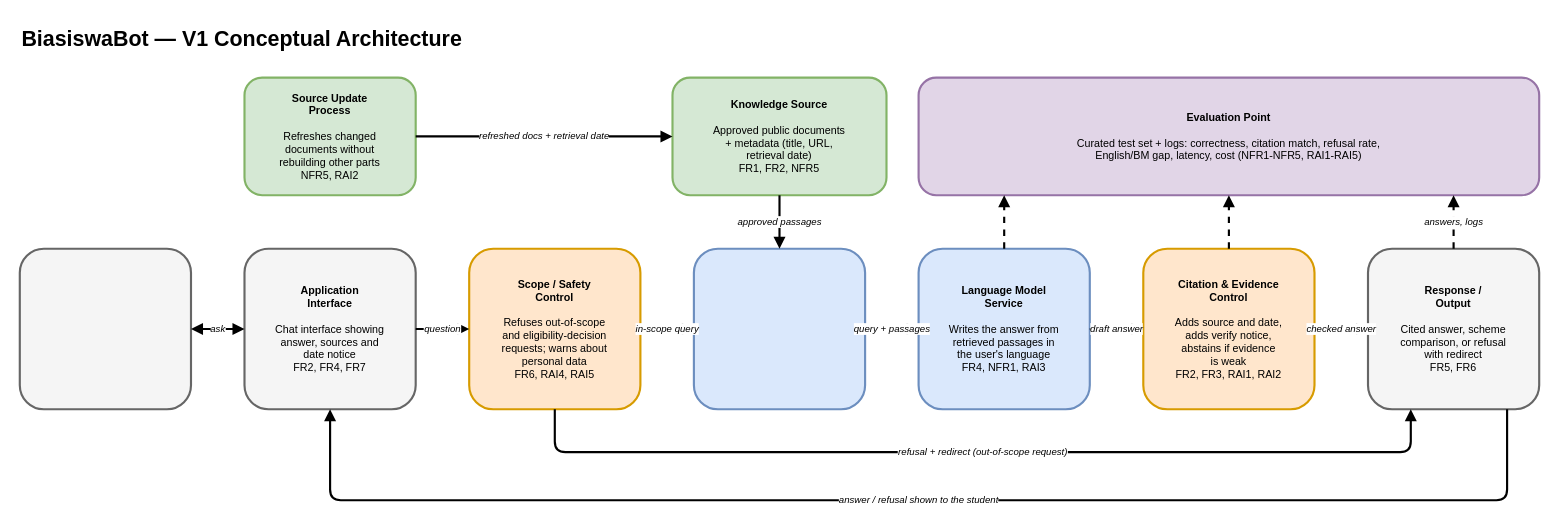
Some shapes in this 1558 by 528 pixel diagram are drawn without their labels. The shapes that lost their labels are listed below. From the top down, each one's centre as x and y in pixels, then its label:
At (105,328): "Student User Malaysian undergraduate asking in English or Bahasa Melayu".
At (779,328): "Knowledge Access Finds relevant passages from approved sources FR1, FR5, NFR2".
